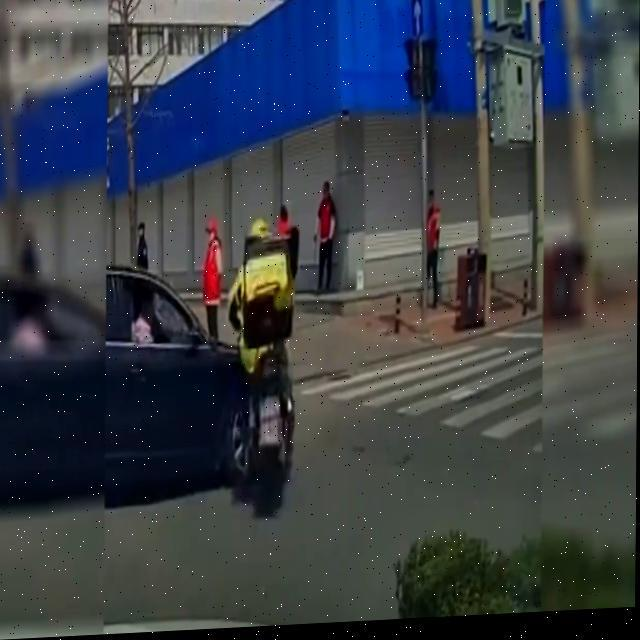multiple_accident: (3, 118, 291, 533)
